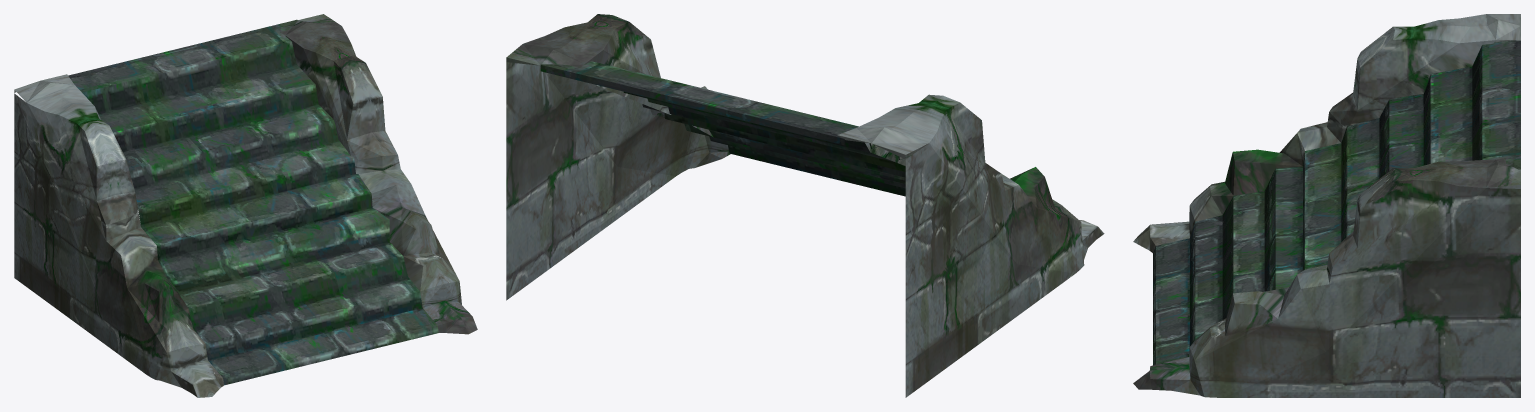
Rendered from stemple_half_stair_01.fbx.
The picture shows the model from 3 angles, left to right: view 1: azimuth 30°, elevation 25°; view 2: azimuth 150°, elevation 25°; view 3: azimuth 270°, elevation 25°; orthographic projection. The views are drawn at different scales.
Visible parts, largest first — view 1: obj1.026; view 2: obj1.026; view 3: obj1.026.
Boxes of the visible parts, x1=… form: obj1.026: x1=14, y1=14, x2=477, y2=397; obj1.026: x1=506, y1=14, x2=1104, y2=397; obj1.026: x1=1133, y1=14, x2=1520, y2=397.
Size of the model in its own units: 4.91 by 2.92 by 4.63.
